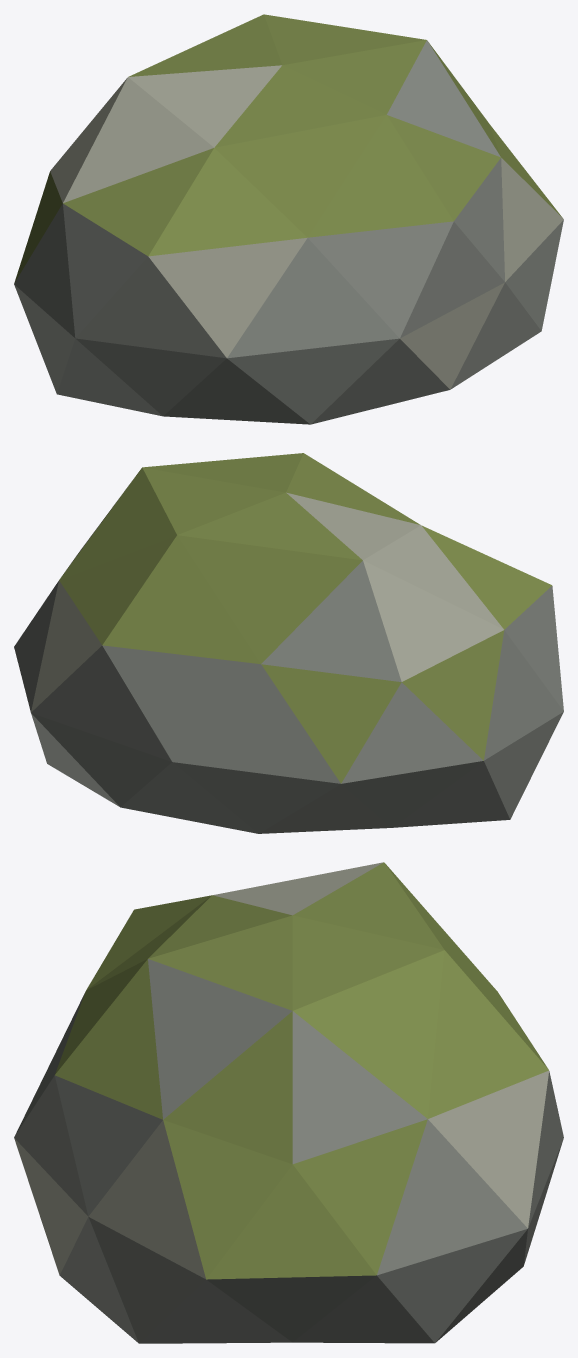
Rendered from SM_MossRock_01.fbx.
3 views of the same model, one above another, from view 1: azimuth 30°, elevation 25°; view 2: azimuth 150°, elevation 25°; view 3: azimuth 270°, elevation 25° (orthographic). The views are drawn at different scales.
Parts seen in each view (by area): view 1: SM_MossRock_01; view 2: SM_MossRock_01; view 3: SM_MossRock_01.
Boxes of the visible parts, bbox=[...] form: SM_MossRock_01: bbox=[14, 14, 563, 424]; SM_MossRock_01: bbox=[14, 453, 563, 833]; SM_MossRock_01: bbox=[14, 862, 563, 1343].
Size of the model in its own units: 2.76 by 2.27 by 1.48.
